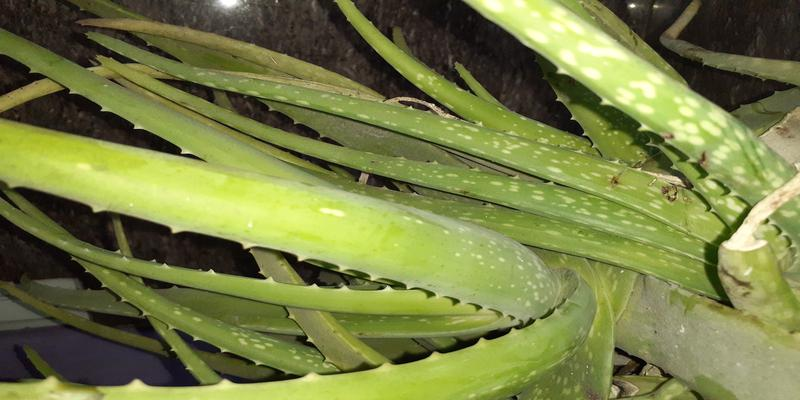Aloevera: (135, 25, 790, 387)
